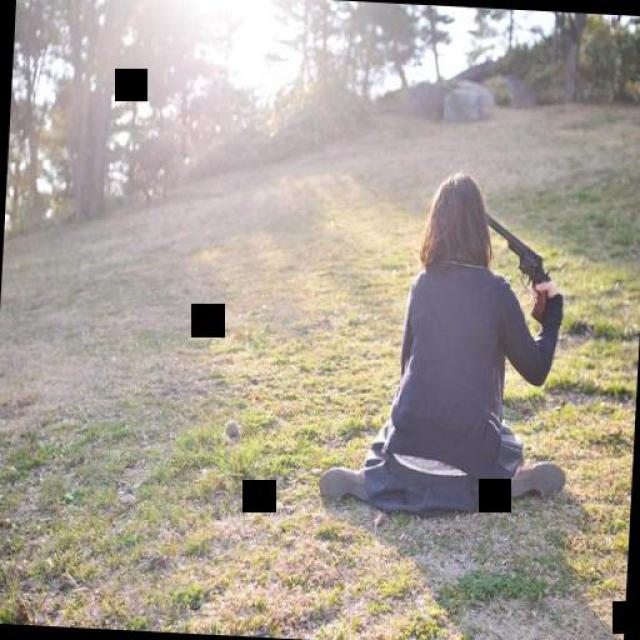gun: (470, 199, 561, 330)
